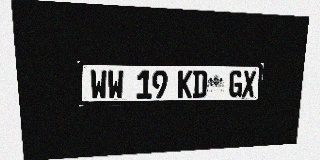1: (136, 70, 152, 99)
9: (152, 70, 167, 99)
D: (192, 70, 207, 98)
G: (228, 70, 243, 97)
K: (178, 70, 193, 98)
W: (90, 70, 107, 100), (107, 70, 124, 99)
X: (242, 71, 256, 97)
